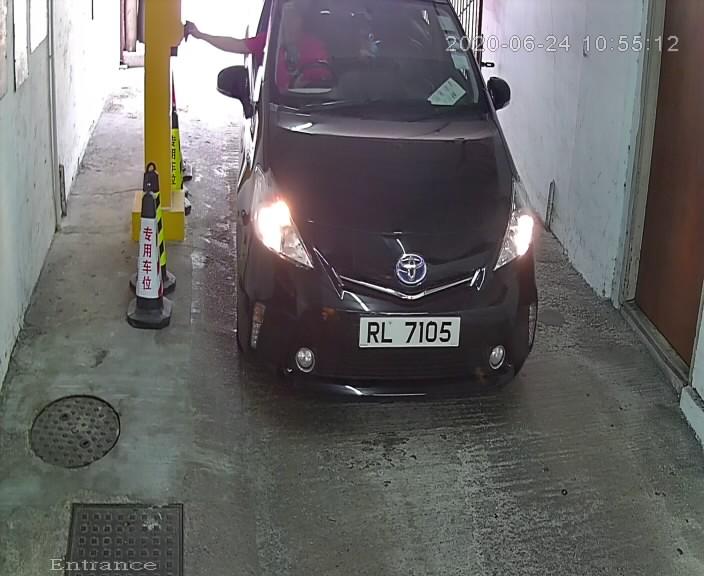Car: (207, 1, 543, 427)
License Plate: (356, 309, 466, 356)
